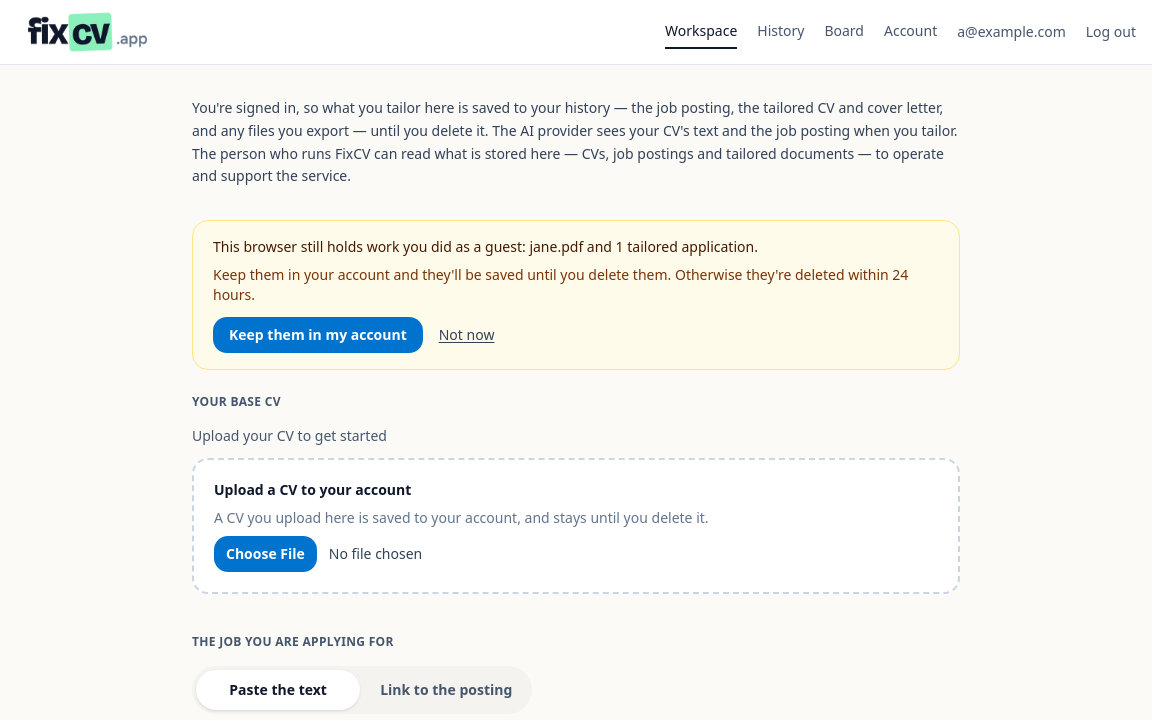
Keeping guest work from the account workspace (AC-38) › after Keep, the picker lists the claimed CV and the latest-run card shows the claimed run
The width and height of the screenshot is (1152, 720).
Check: the radio button labelled "A-ONLY-claimed.pdf" is not shown
What coordinates should you click on to do the following:
click the button "Keep them in my account"
I would click on:
 (318, 335)
Its box is [213,317,423,353].
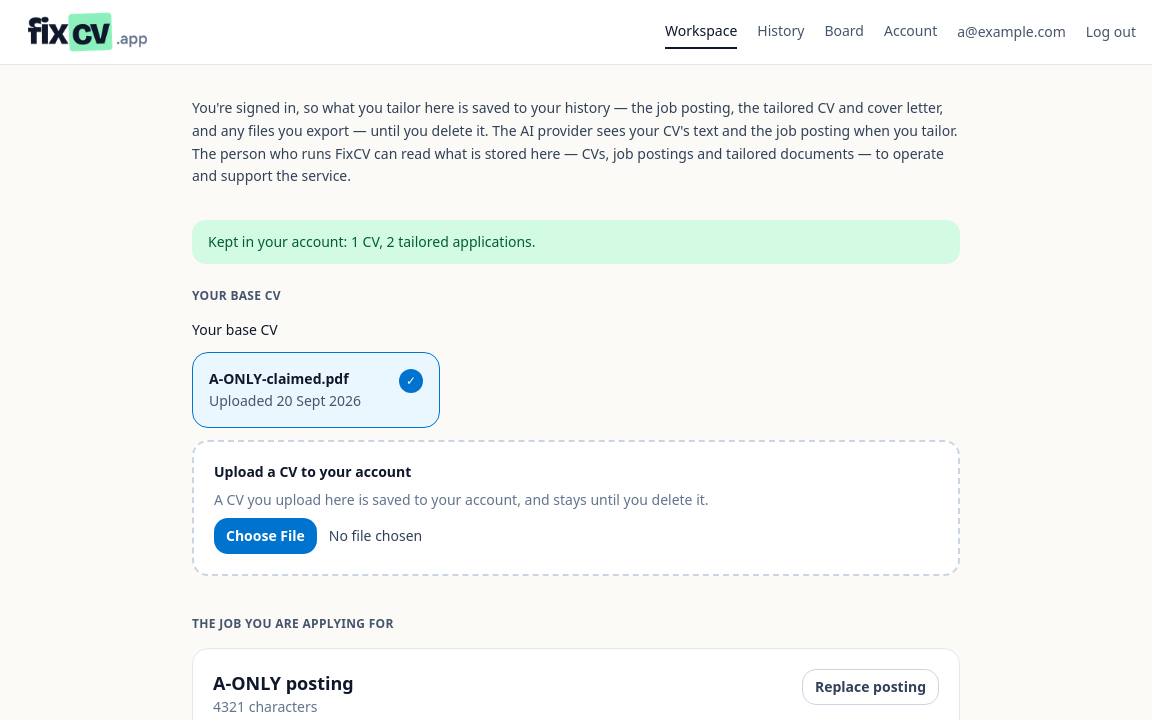
Check: the radio button labelled "A-ONLY-claimed.pdf Uploaded 20 Sept 2026 ✓" is shown, box [209,369,423,410]
Check: the text "Kept in your account: 1 CV, 2 tailored applications." is shown, box [192,220,960,264]
